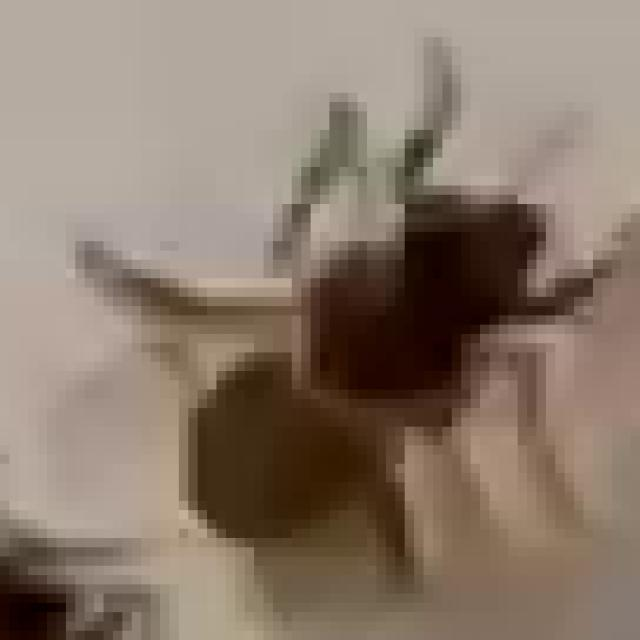honeybee: (153, 93, 627, 614)
